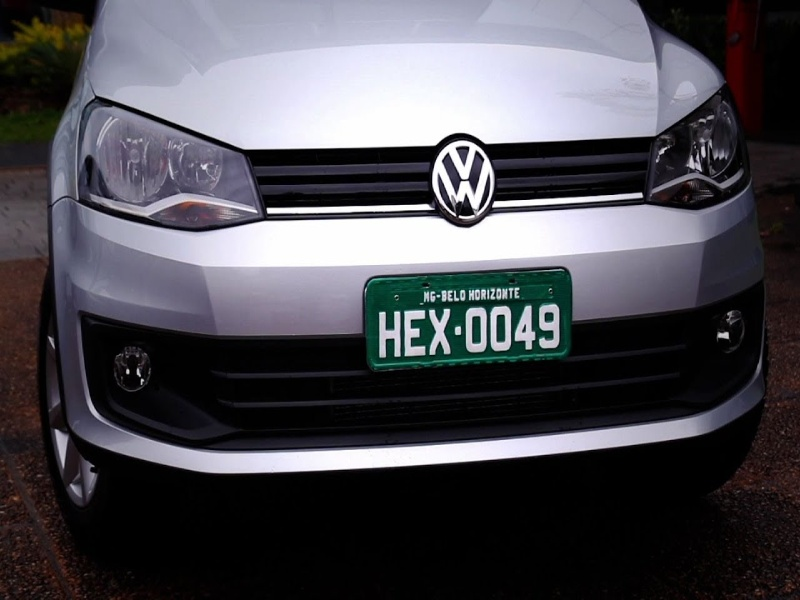placa: (361, 273, 576, 372)
